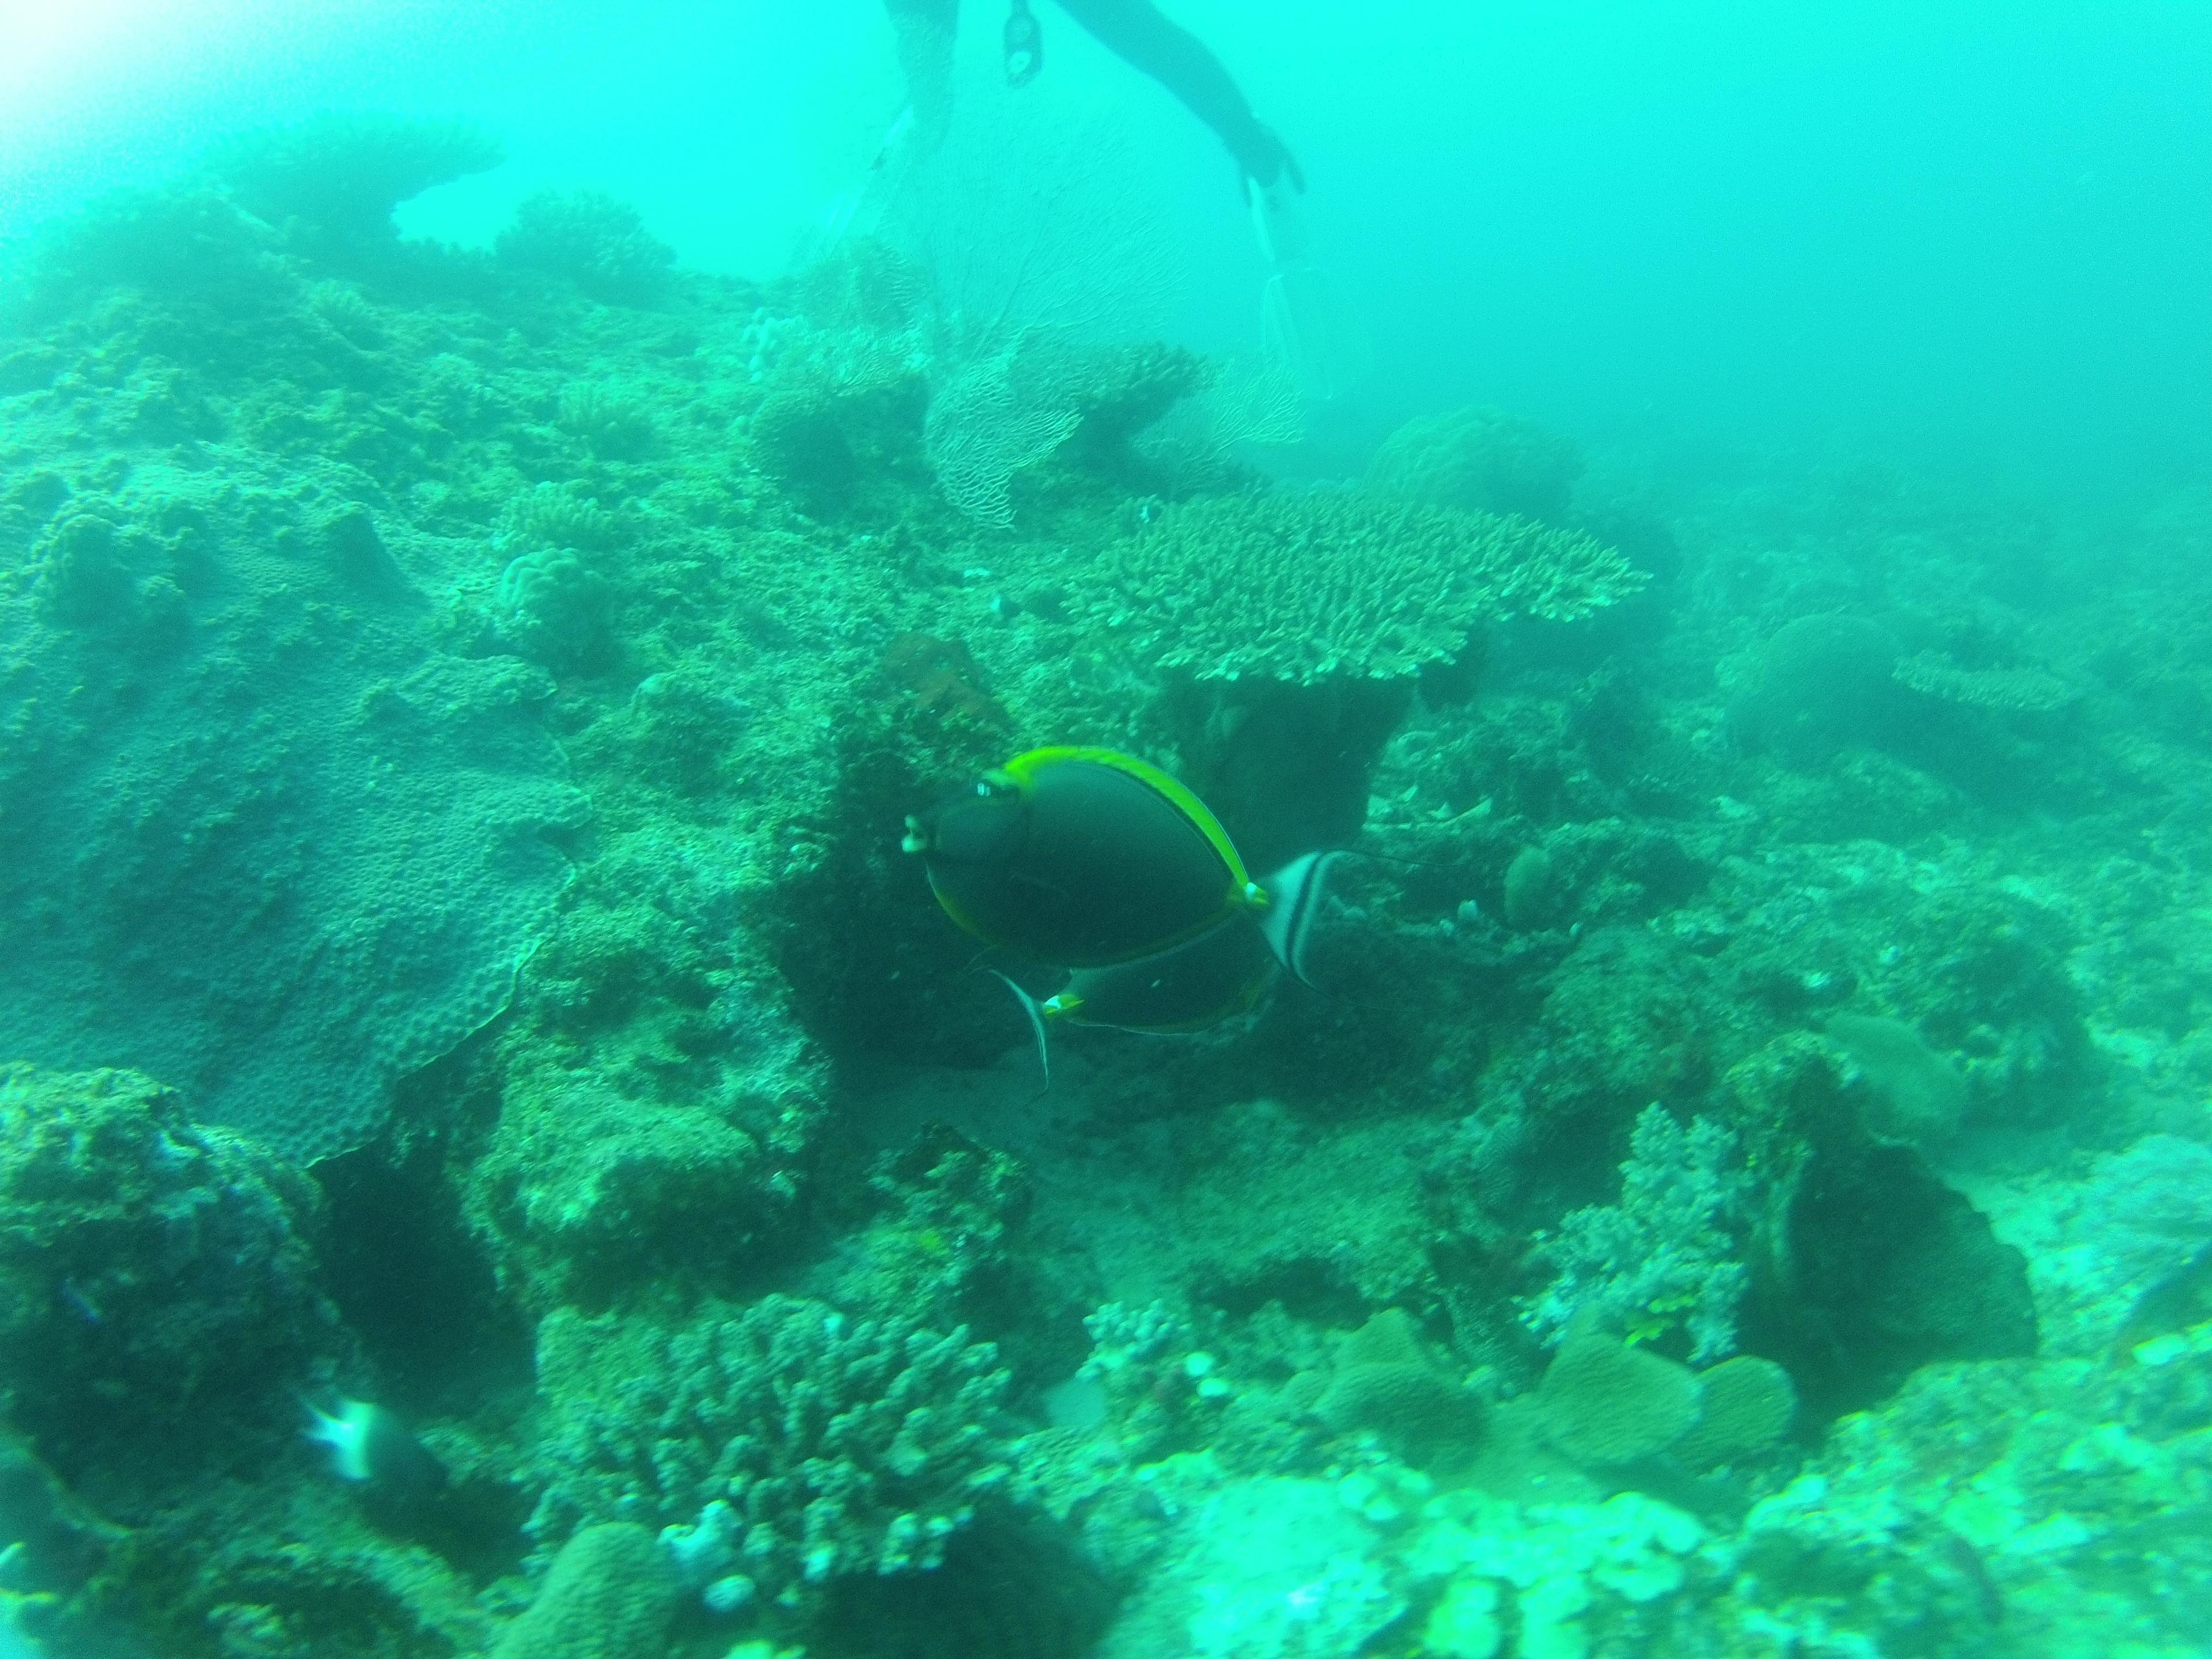Fish: (660, 648, 1486, 1086)
